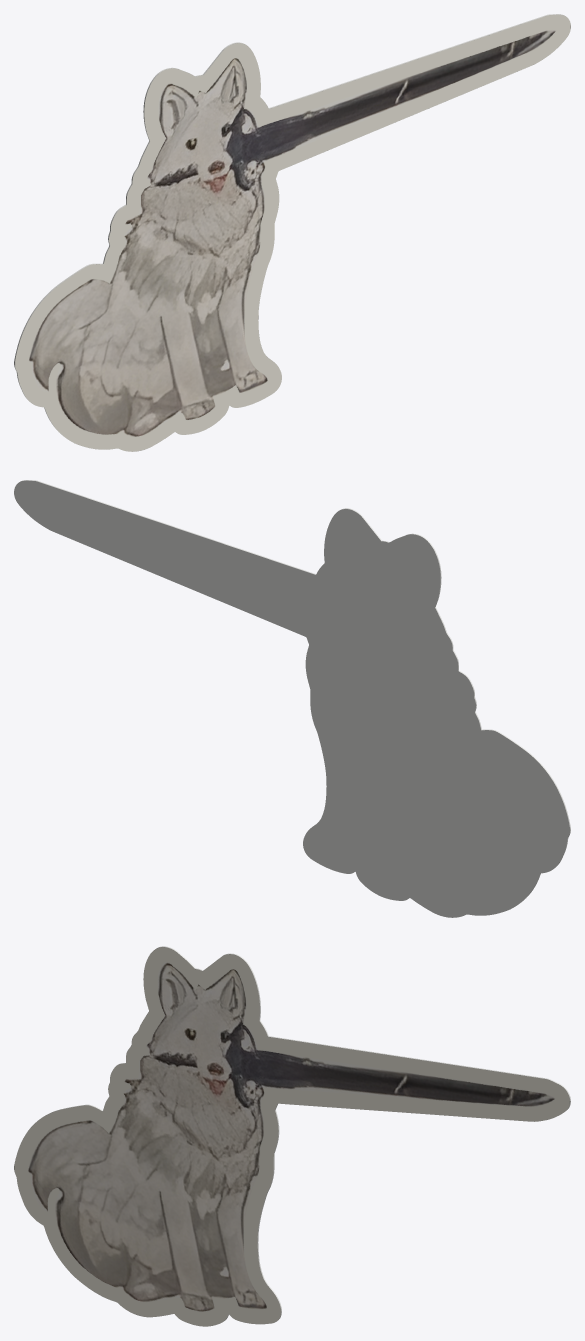
The model's file is old-17-sif-wolf-sword.glb.
3 views of the same model, one above another, from view 1: azimuth 30°, elevation 25°; view 2: azimuth 150°, elevation 25°; view 3: azimuth 330°, elevation 25° (orthographic).
Visible parts, largest first — view 1: old-17-sif-wolf-sword / thin printed sticker; view 2: old-17-sif-wolf-sword / thin printed sticker; view 3: old-17-sif-wolf-sword / thin printed sticker.
Boxes of the visible parts, x1=… form: old-17-sif-wolf-sword / thin printed sticker: x1=14, y1=14, x2=570, y2=451; old-17-sif-wolf-sword / thin printed sticker: x1=14, y1=480, x2=570, y2=917; old-17-sif-wolf-sword / thin printed sticker: x1=14, y1=946, x2=570, y2=1326.
Size of the model in its own units: 2.34 by 1.54 by 0.006.
Materials: 2 (1 with a texture image).
